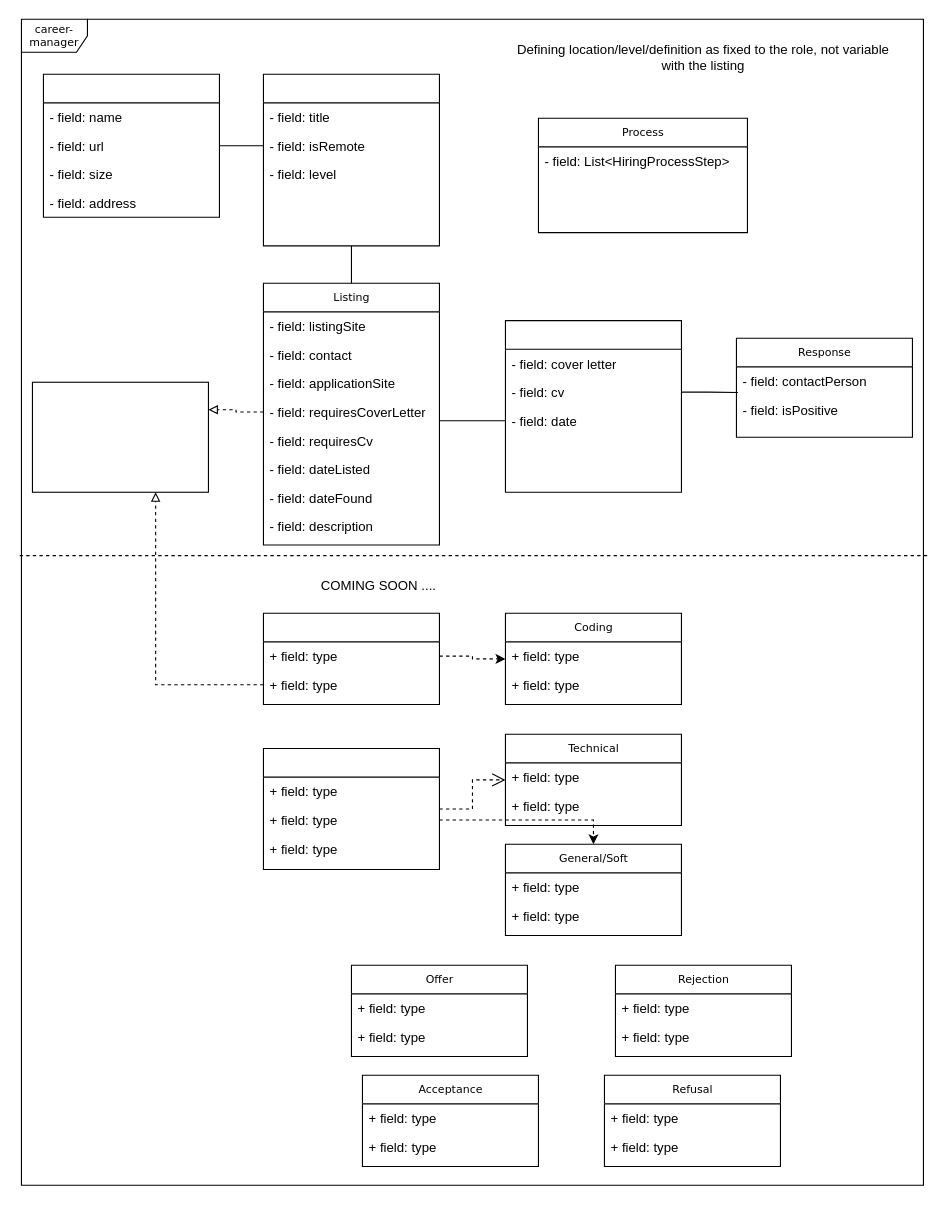
The diagram is 948 pixels wide and 1205 high, and some of its shapes have lost their labels. The box of each missing label's shape, as (x1, y1, x2, y2) in pixels:
<<Interface>> HiringProcessStep: (31, 381, 208, 492)
Application: (504, 320, 681, 492)
Company: (42, 73, 219, 217)
Interview: (262, 747, 439, 870)
Position: (262, 73, 439, 246)
Test: (262, 612, 439, 705)
